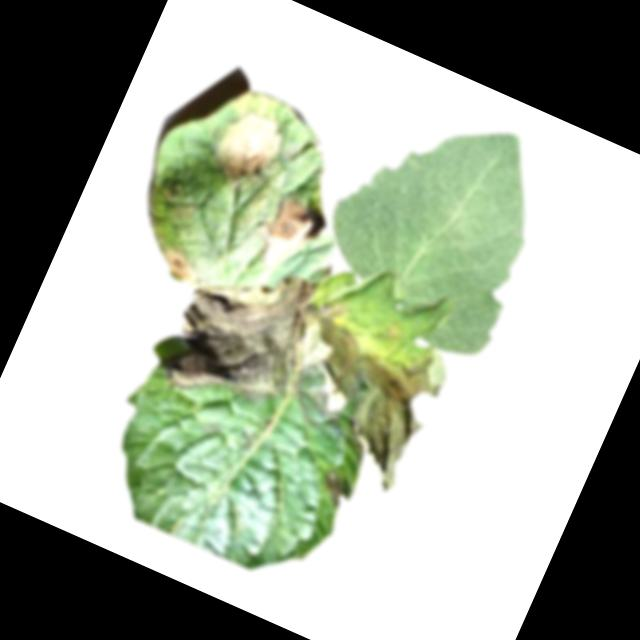Late_blight: (266, 299, 457, 498), (153, 239, 329, 427), (194, 97, 295, 200), (243, 188, 328, 281), (153, 243, 203, 285), (312, 469, 356, 515)
healthy: (298, 78, 571, 367)
